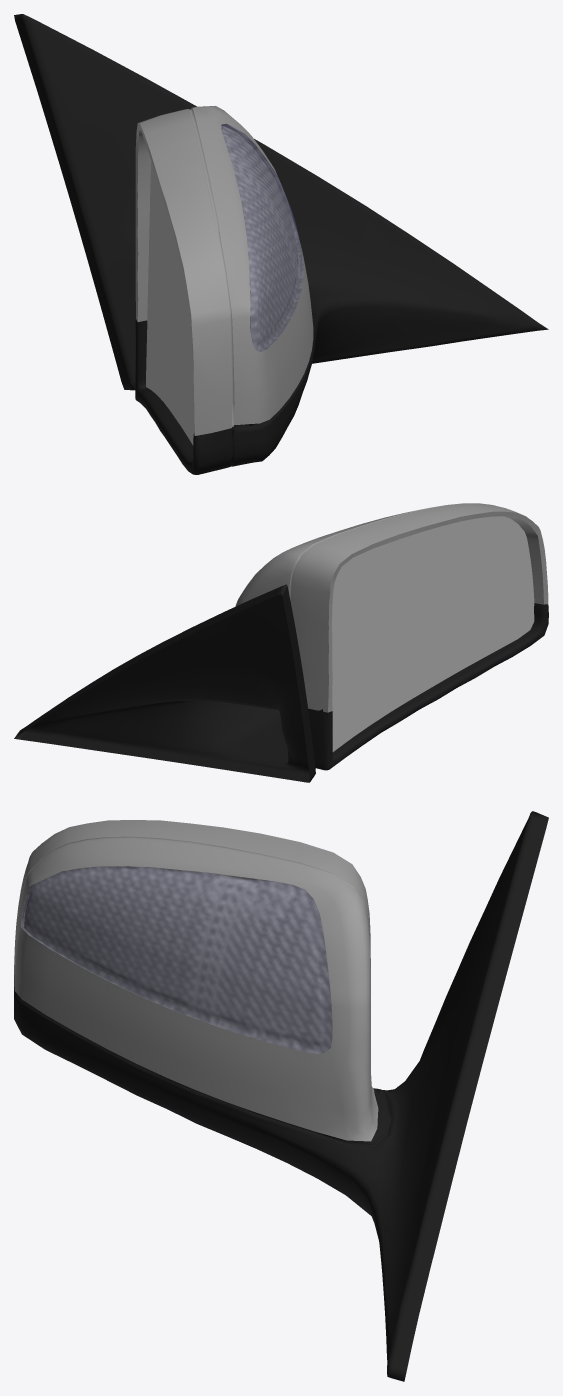
3 views of the same model, one above another, from view 1: azimuth 30°, elevation 25°; view 2: azimuth 150°, elevation 25°; view 3: azimuth 270°, elevation 25° (orthographic). The views are drawn at different scales.
Visible parts, largest first — view 1: X3144_261I_R_X3144_261I_R_1_D, X3144_261I_R_X3144_261I_R_2_DaS, X3144_261I_R_3_N_X3144_261I_R, X3144_261I_R_X3144_261I_R_4_DTaSI, X3144_261I_R_X3144_261I_R_5_DTaSI, X3144_261I_R_X3144_261I_R_2_DaS_E; view 2: X3144_261I_R_X3144_261I_R_1_D, X3144_261I_R_X3144_261I_R_5_DTaSI, X3144_261I_R_X3144_261I_R_2_DaS, X3144_261I_R_X3144_261I_R_2_DaS_E; view 3: X3144_261I_R_X3144_261I_R_2_DaS, X3144_261I_R_X3144_261I_R_1_D, X3144_261I_R_3_N_X3144_261I_R, X3144_261I_R_X3144_261I_R_4_DTaSI, X3144_261I_R_X3144_261I_R_2_DaS_E.
Boxes of the visible parts, left/top/right/bottom form: X3144_261I_R_X3144_261I_R_1_D: left=14, top=14, right=548, bottom=474; X3144_261I_R_X3144_261I_R_2_DaS: left=137, top=106, right=313, bottom=435; X3144_261I_R_3_N_X3144_261I_R: left=221, top=124, right=303, bottom=351; X3144_261I_R_X3144_261I_R_4_DTaSI: left=221, top=124, right=303, bottom=351; X3144_261I_R_X3144_261I_R_5_DTaSI: left=146, top=161, right=193, bottom=445; X3144_261I_R_X3144_261I_R_2_DaS_E: left=135, top=108, right=234, bottom=434; X3144_261I_R_X3144_261I_R_1_D: left=14, top=584, right=548, bottom=782; X3144_261I_R_X3144_261I_R_5_DTaSI: left=332, top=516, right=534, bottom=751; X3144_261I_R_X3144_261I_R_2_DaS: left=235, top=503, right=543, bottom=712; X3144_261I_R_X3144_261I_R_2_DaS_E: left=289, top=503, right=548, bottom=712; X3144_261I_R_X3144_261I_R_2_DaS: left=14, top=820, right=378, bottom=1141; X3144_261I_R_X3144_261I_R_1_D: left=14, top=811, right=548, bottom=1381; X3144_261I_R_3_N_X3144_261I_R: left=21, top=866, right=332, bottom=1054; X3144_261I_R_X3144_261I_R_4_DTaSI: left=21, top=866, right=332, bottom=1053; X3144_261I_R_X3144_261I_R_2_DaS_E: left=14, top=836, right=370, bottom=973.
Size of the model in its own units: 41.03 by 26.85 by 36.15.
